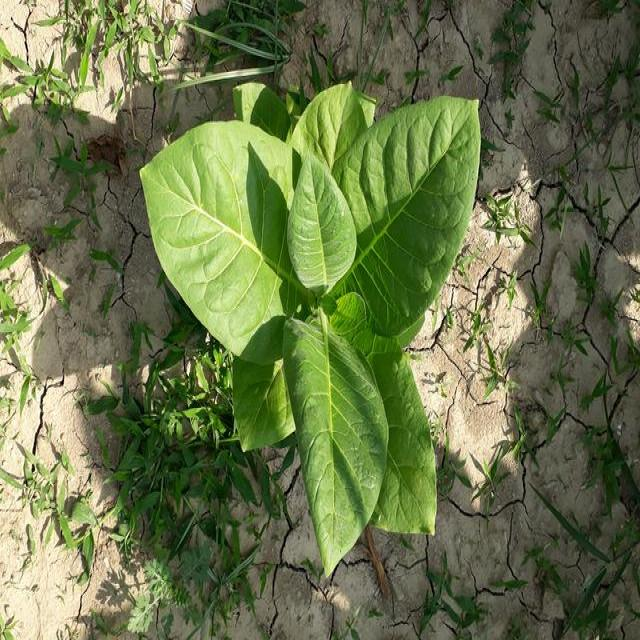crop: (143, 81, 484, 594)
